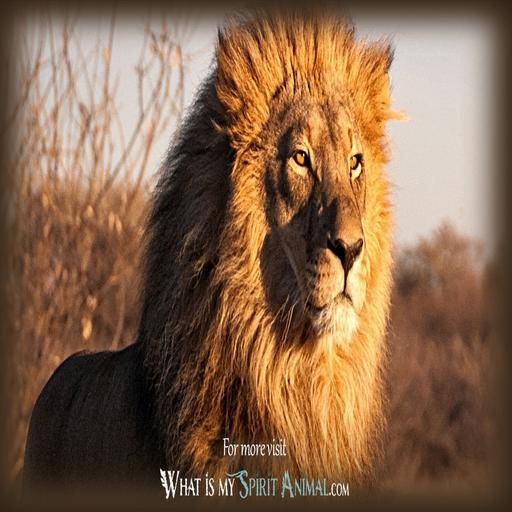Lion: (0, 0, 412, 512)
